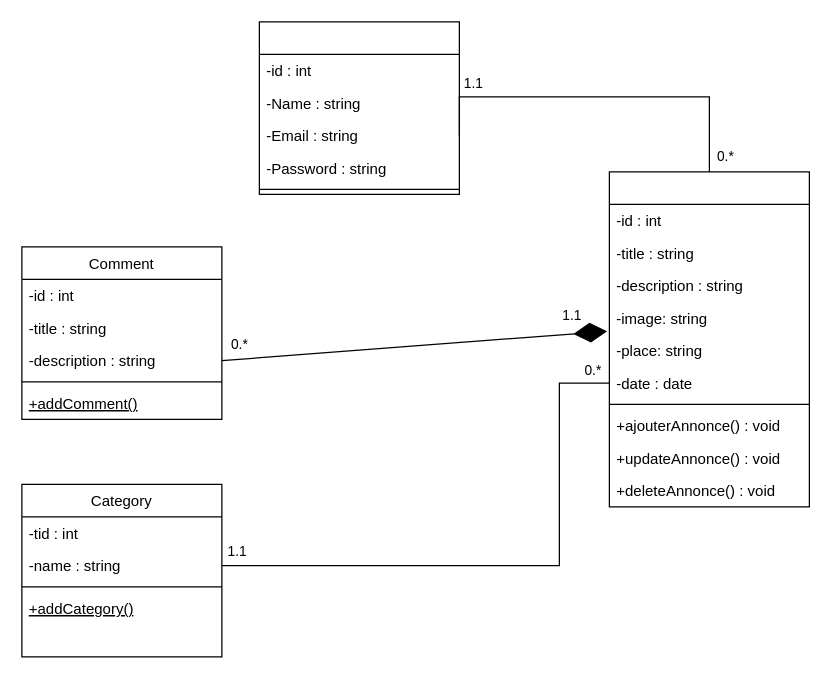
Some shapes in this 831 by 679 pixel diagram are drawn without their labels. Here are the shapes that lost their labels. From the top down, the box of each, then its label:
(258, 21, 459, 194): User
(608, 171, 809, 507): Post
